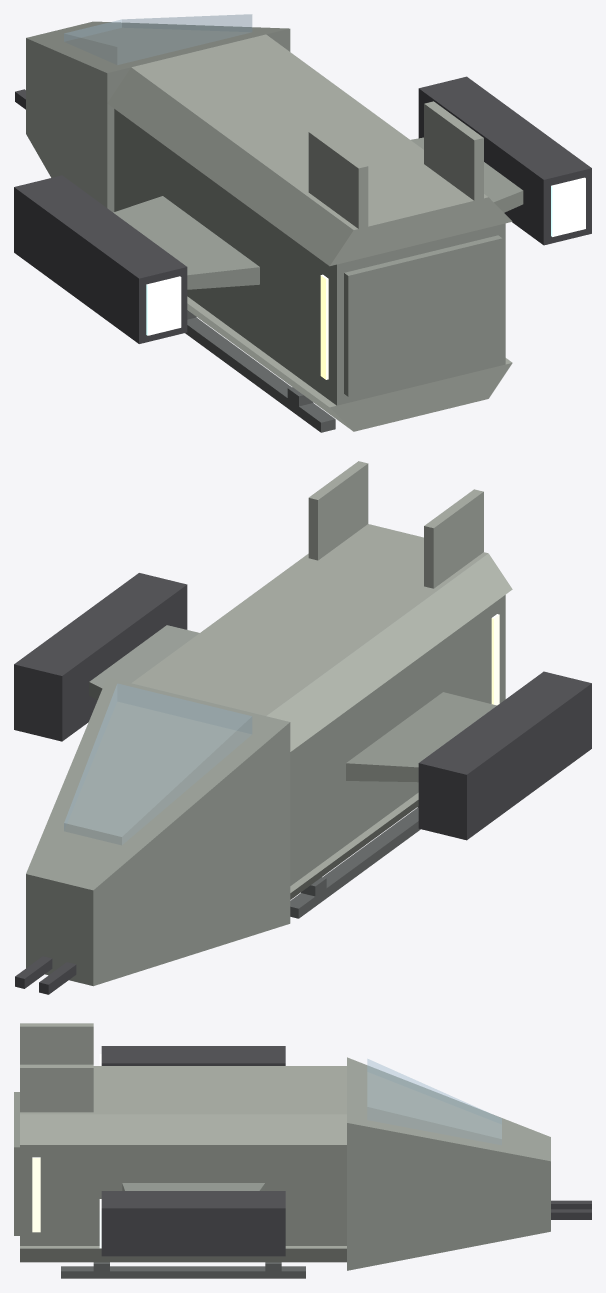
File: ship_XS_DROPSHIP.glb
3 renders of one model, top to bottom at view 1: azimuth 30°, elevation 25°; view 2: azimuth 150°, elevation 25°; view 3: azimuth 270°, elevation 25°, orthographic. The views are drawn at different scales.
Parts seen in each view (by area): view 1: XS_DROPSHIP_Armor, XS_DROPSHIP_Hull-col, XS_DROPSHIP_Engines, XS_DROPSHIP_Ramp-col, XS_DROPSHIP_Glass-col, XS_DROPSHIP_EngineGlow, XS_DROPSHIP_Trim, XS_DROPSHIP_Lights; view 2: XS_DROPSHIP_Hull-col, XS_DROPSHIP_Armor, XS_DROPSHIP_Engines, XS_DROPSHIP_Glass-col, XS_DROPSHIP_Trim, XS_DROPSHIP_Lights; view 3: XS_DROPSHIP_Hull-col, XS_DROPSHIP_Armor, XS_DROPSHIP_Engines, XS_DROPSHIP_Glass-col, XS_DROPSHIP_Trim, XS_DROPSHIP_Ramp-col, XS_DROPSHIP_Lights.
Part boxes in pixels (left/top/right/bottom): XS_DROPSHIP_Armor: left=107, top=34, right=512, bottom=431; XS_DROPSHIP_Hull-col: left=26, top=21, right=523, bottom=405; XS_DROPSHIP_Engines: left=14, top=76, right=591, bottom=343; XS_DROPSHIP_Ramp-col: left=344, top=235, right=502, bottom=396; XS_DROPSHIP_Glass-col: left=64, top=14, right=251, bottom=64; XS_DROPSHIP_EngineGlow: left=146, top=177, right=585, bottom=335; XS_DROPSHIP_Trim: left=185, top=310, right=335, bottom=432; XS_DROPSHIP_Lights: left=320, top=274, right=328, bottom=379; XS_DROPSHIP_Hull-col: left=26, top=595, right=505, bottom=986; XS_DROPSHIP_Armor: left=131, top=461, right=512, bottom=899; XS_DROPSHIP_Engines: left=14, top=573, right=591, bottom=994; XS_DROPSHIP_Glass-col: left=64, top=684, right=251, bottom=844; XS_DROPSHIP_Trim: left=290, top=806, right=420, bottom=918; XS_DROPSHIP_Lights: left=491, top=614, right=499, bottom=705; XS_DROPSHIP_Hull-col: left=20, top=1057, right=550, bottom=1270; XS_DROPSHIP_Armor: left=20, top=1023, right=346, bottom=1262; XS_DROPSHIP_Engines: left=101, top=1046, right=591, bottom=1256; XS_DROPSHIP_Glass-col: left=367, top=1059, right=501, bottom=1144; XS_DROPSHIP_Trim: left=61, top=1262, right=305, bottom=1278; XS_DROPSHIP_Ramp-col: left=14, top=1092, right=19, bottom=1235; XS_DROPSHIP_Lights: left=32, top=1157, right=40, bottom=1232.
Bounding box in the file's own units: 9.4 × 5.6 × 14.15.
